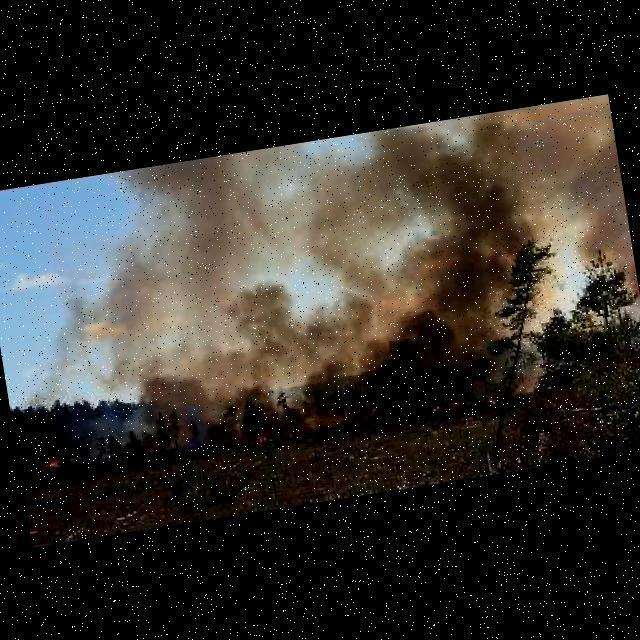Fire: (42, 452, 64, 467), (253, 429, 273, 444)
Smoke: (252, 94, 640, 435), (38, 153, 292, 445)
